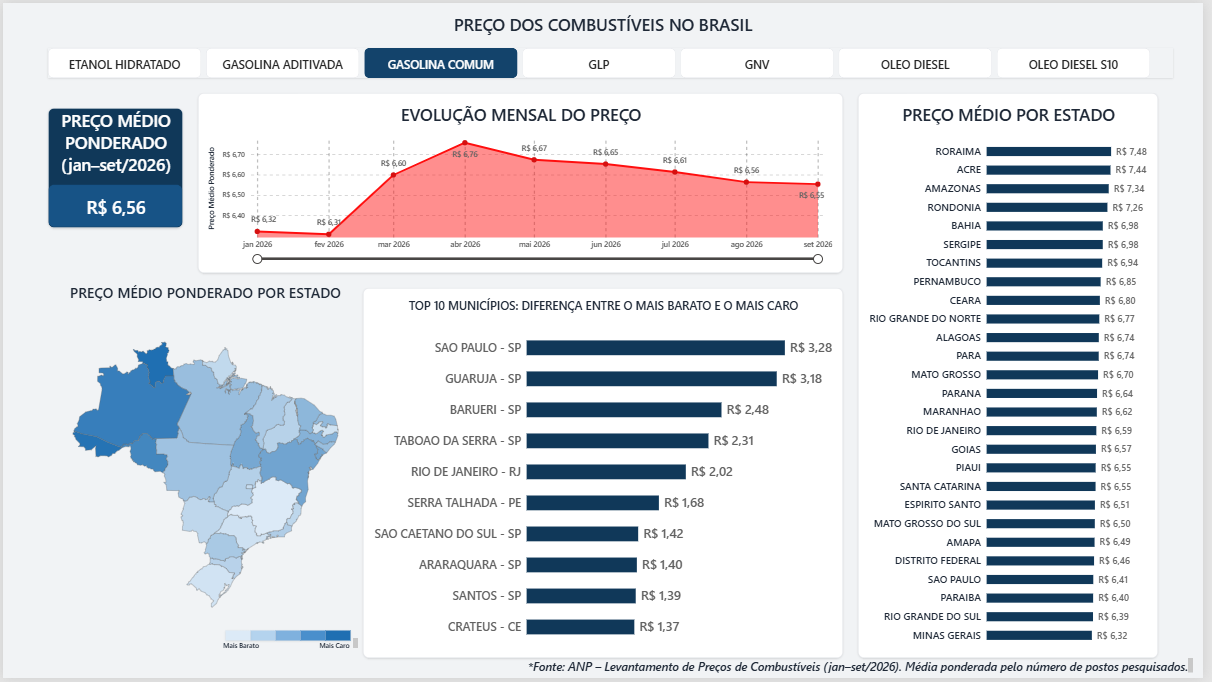

The page's visual inventory and layout, read from the dashboard file:
{"tool":"powerbi","page":{"name":"VISÃO GERAL","canvas":[1920,1080],"ordinal":0},"visuals":[{"type":"slicer","title":"PRODUTO","fields":{"Values":["dProduto.PRODUTO"]},"box":[0,0,568,346],"z":0},{"type":"cardVisual","title":"Preço médio ponderado (jan–set/2026)","fields":{"Data":["fPrecos.Preço Médio Ponderado X"]},"box":[580,0,290,346.7],"z":1000},{"type":"lineChart","title":"Evolução mensal do preço","fields":{"Y":["fPrecos.Preço Médio Ponderado X"],"Category":["fPrecos.MÊS"]},"box":[870,0,1018,346],"z":2000},{"type":"clusteredBarChart","title":"Preço médio por estado","fields":{"Category":["dLocal.ESTADO"],"Y":["fPrecos.Preço Médio Ponderado X"]},"box":[870,346,1018,676],"z":3000},{"type":"clusteredBarChart","title":"TOP 10 MUNICÍPIOS: DIFERENÇA ENTRE O MAIS BARATO E O MAIS CARO","fields":{"Category":["dLocal.Município - Estado"],"Y":["fPrecos.Amplitude Média"]},"box":[0,346,870,676],"z":4000},{"type":"textbox","box":[410,1036,1510,44],"z":6001}]}

Visuals, with their boxes in screenshot pixels (x1, y1, x2, y2), scaled from the page's 1920x1080 canvas onto the 1212x682 screenshot:
"PRODUTO" slicer: {"x1": 0, "y1": 0, "x2": 359, "y2": 218}
"Preço médio ponderado (jan–set/2026)" cardVisual: {"x1": 366, "y1": 0, "x2": 549, "y2": 219}
"Evolução mensal do preço" lineChart: {"x1": 549, "y1": 0, "x2": 1192, "y2": 218}
"Preço médio por estado" clusteredBarChart: {"x1": 549, "y1": 218, "x2": 1192, "y2": 645}
"TOP 10 MUNICÍPIOS: DIFERENÇA ENTRE O MAIS BARATO E O MAIS CARO" clusteredBarChart: {"x1": 0, "y1": 218, "x2": 549, "y2": 645}
textbox: {"x1": 259, "y1": 654, "x2": 1211, "y2": 681}
